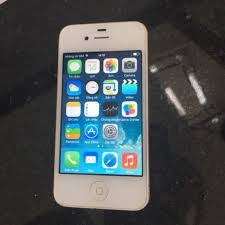iphone: (50, 16, 154, 211)
iphone4: (51, 17, 155, 212)
